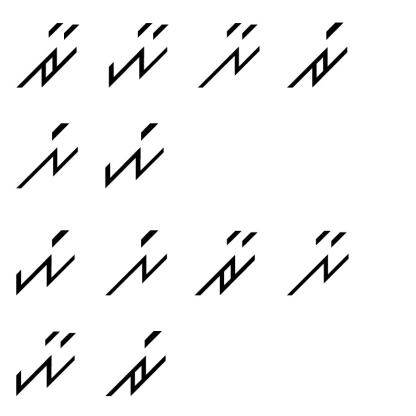lan: (195, 17, 269, 93), (283, 226, 355, 300)
lang: (13, 122, 85, 192), (102, 227, 171, 299)
ran: (193, 223, 265, 303), (12, 22, 82, 92)
rang: (288, 16, 355, 95), (106, 328, 174, 400)
yan: (10, 328, 84, 401), (104, 23, 171, 92)
yang: (99, 118, 170, 194), (10, 225, 82, 296)
